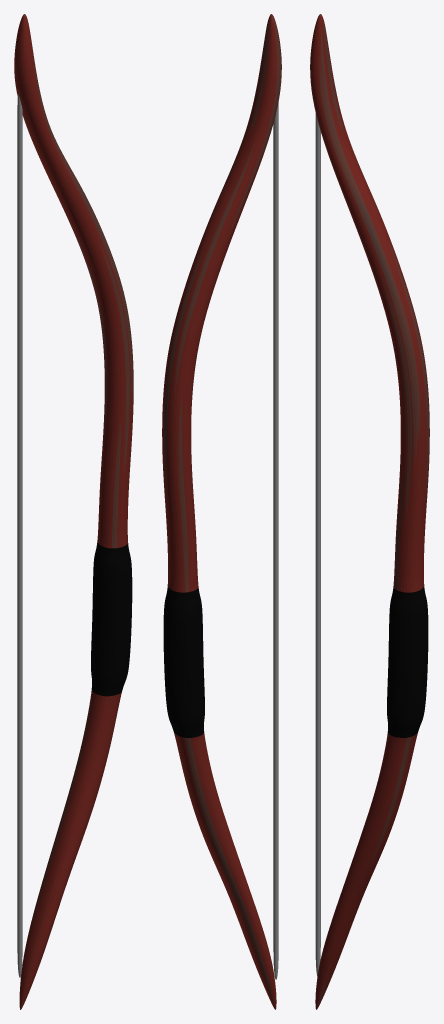
The model's file is Arco.fbx.
3 views of the same model, side by side, from view 1: azimuth 30°, elevation 25°; view 2: azimuth 210°, elevation 25°; view 3: azimuth 330°, elevation 25° (orthographic).
Visible parts, largest first — view 1: Arco; view 2: Arco; view 3: Arco.
Part boxes in pixels (bbox=[...]): Arco: bbox=[14, 14, 133, 1009]; Arco: bbox=[162, 14, 281, 1009]; Arco: bbox=[310, 14, 429, 1009].
Bounding box in the file's own units: 398 × 3290 × 120.
Materials: 3 (1 with a texture image).
